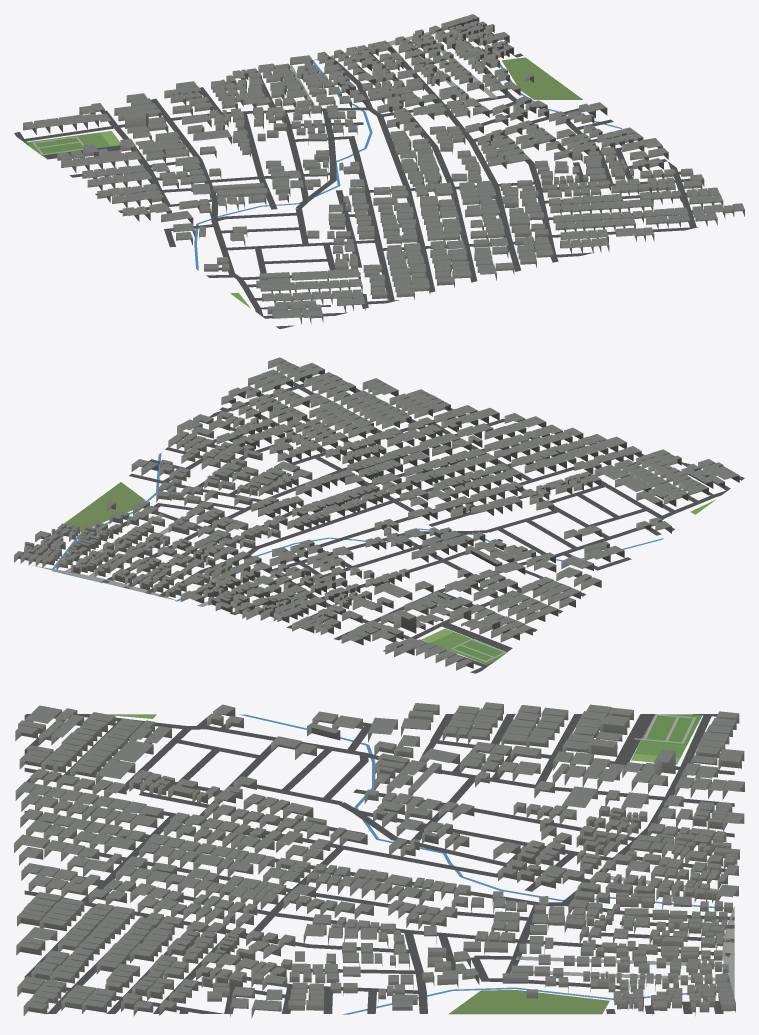
The picture shows the model from 3 angles, top to bottom: view 1: azimuth 30°, elevation 25°; view 2: azimuth 150°, elevation 25°; view 3: azimuth 270°, elevation 25°; orthographic projection. The views are drawn at different scales.
Visible parts, largest first — view 1: building, ground, water; view 2: building, ground, water; view 3: building, ground, water.
Boxes of the visible parts, bbox=[...] form: building: bbox=[23, 14, 744, 324]; ground: bbox=[14, 29, 698, 328]; water: bbox=[194, 60, 622, 270]; building: bbox=[14, 357, 739, 670]; ground: bbox=[18, 381, 744, 673]; water: bbox=[52, 453, 663, 601]; building: bbox=[14, 702, 744, 1018]; ground: bbox=[24, 714, 734, 1014]; water: bbox=[239, 714, 733, 1014].
Size of the model in its own units: 514 by 18 by 515.
